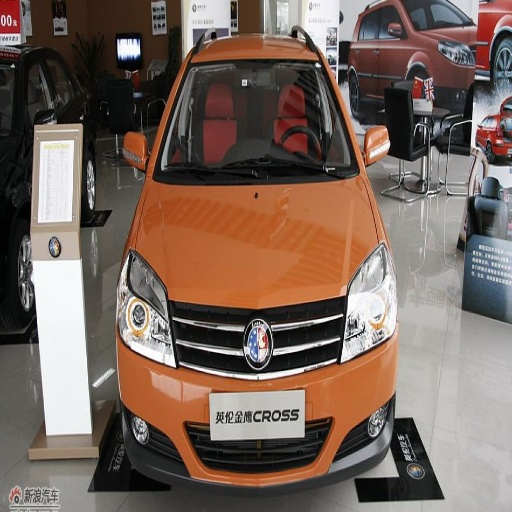front_bumper: (117, 297, 392, 489)
front_left_light: (341, 246, 393, 362)
front_right_door: (431, 0, 470, 64)
front_right_light: (119, 250, 177, 366)
hood: (137, 177, 377, 309)
